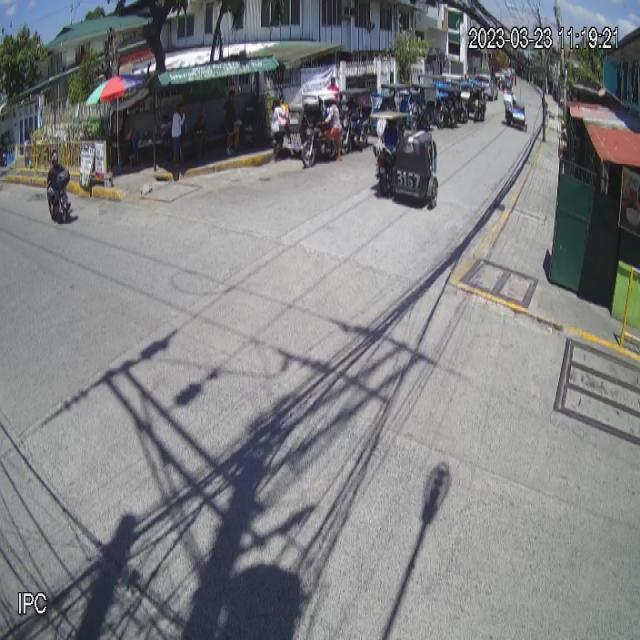Tricycle: (372, 107, 438, 208)
